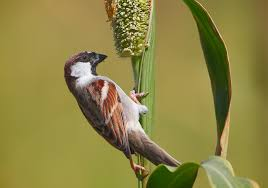hsparrow: (61, 48, 182, 176)
